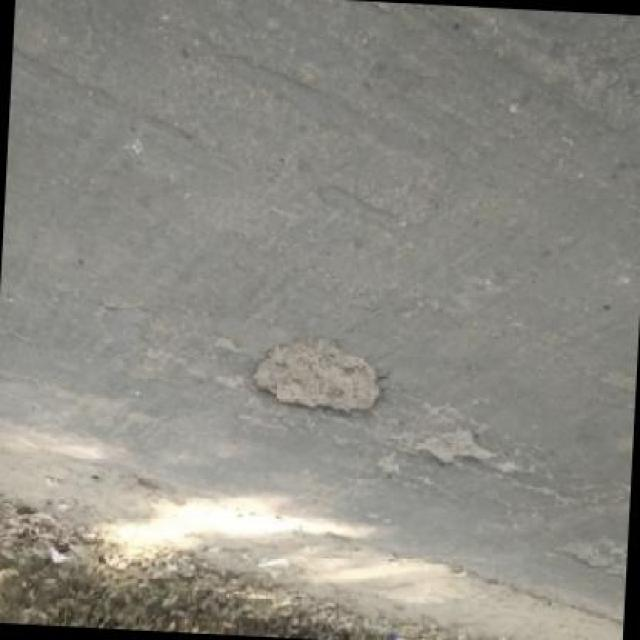pothole: (246, 334, 388, 424), (412, 426, 501, 472)
